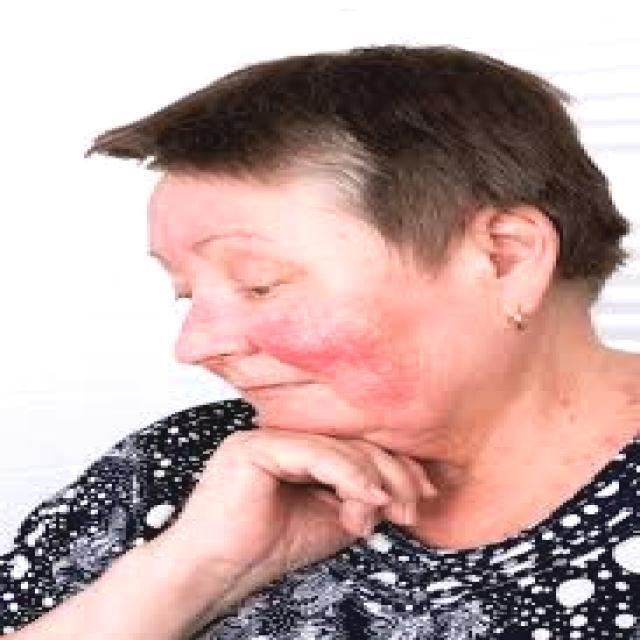Rosacea: (248, 302, 416, 418), (181, 303, 216, 341)
